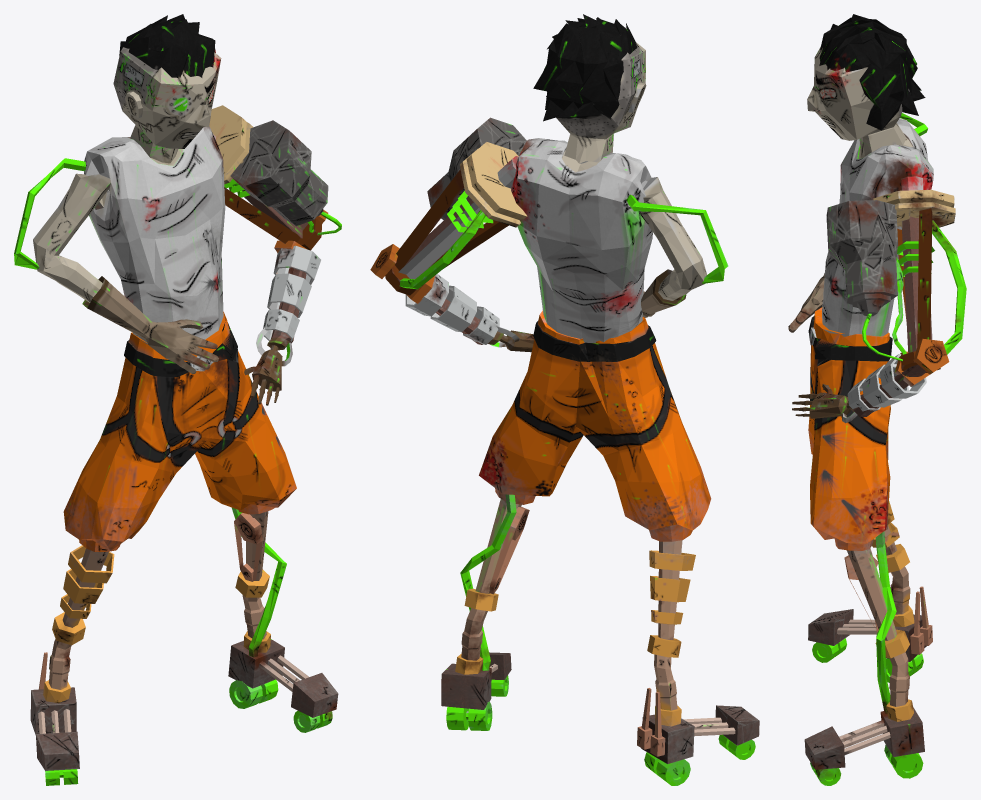
Rendered from CyborgFINALAnimation_000058.obj.
3 renders of one model, left to right at view 1: azimuth 30°, elevation 25°; view 2: azimuth 150°, elevation 25°; view 3: azimuth 270°, elevation 25°, orthographic. The views are drawn at different scales.
Parts seen in each view (by area): view 1: CyborgMesh_Cube.002; view 2: CyborgMesh_Cube.002; view 3: CyborgMesh_Cube.002.
Boxes of the visible parts, bbox=[...] form: CyborgMesh_Cube.002: bbox=[14, 14, 341, 785]; CyborgMesh_Cube.002: bbox=[370, 14, 759, 785]; CyborgMesh_Cube.002: bbox=[788, 14, 966, 785].
Size of the model in its own units: 4.62 by 9.59 by 2.21.
